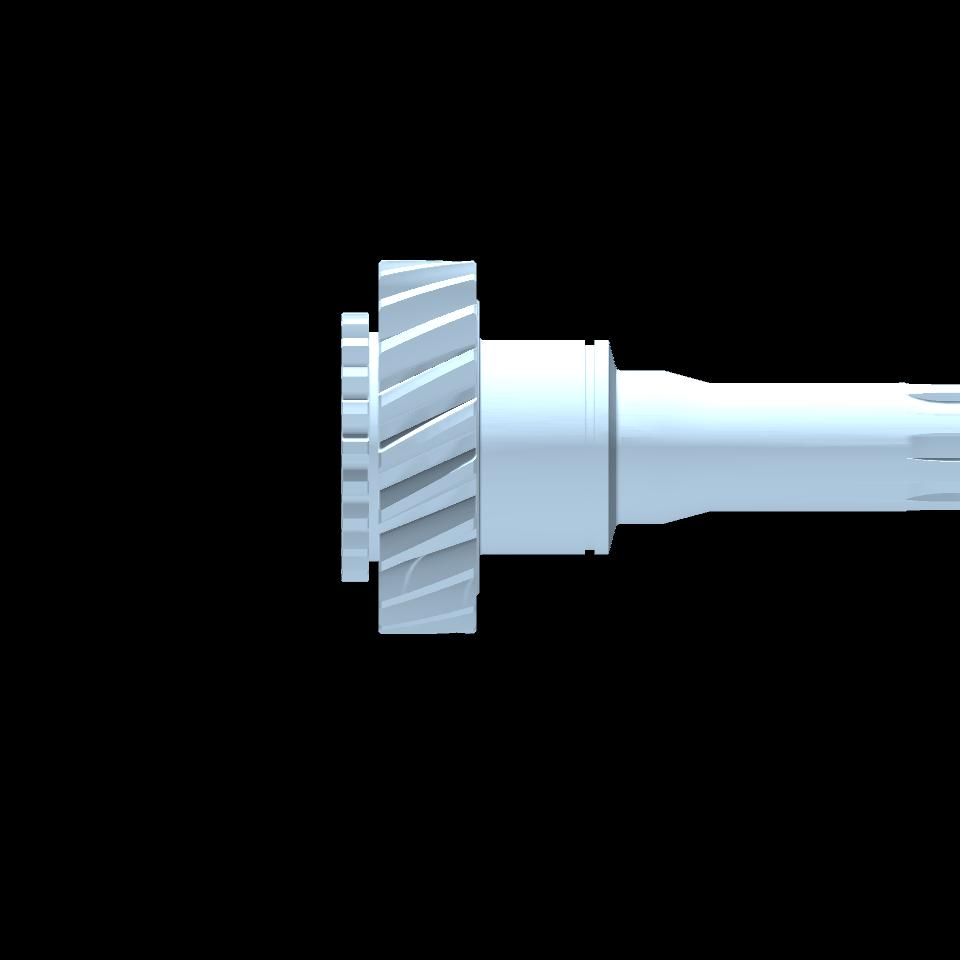Helical: (381, 259, 477, 636)
Straight: (343, 311, 367, 580), (926, 385, 960, 513)
